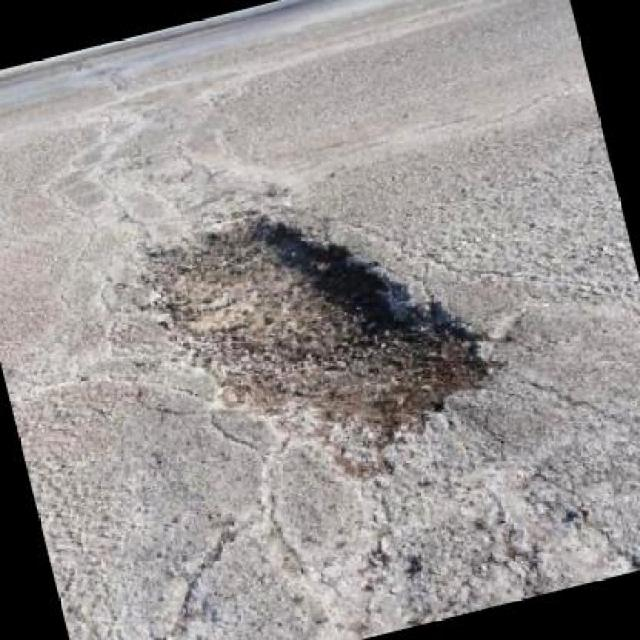pothole1: (112, 157, 519, 517)
